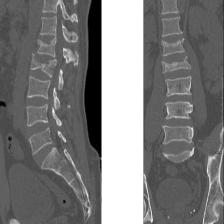compression-crush-fracture: (1, 0, 224, 224)
